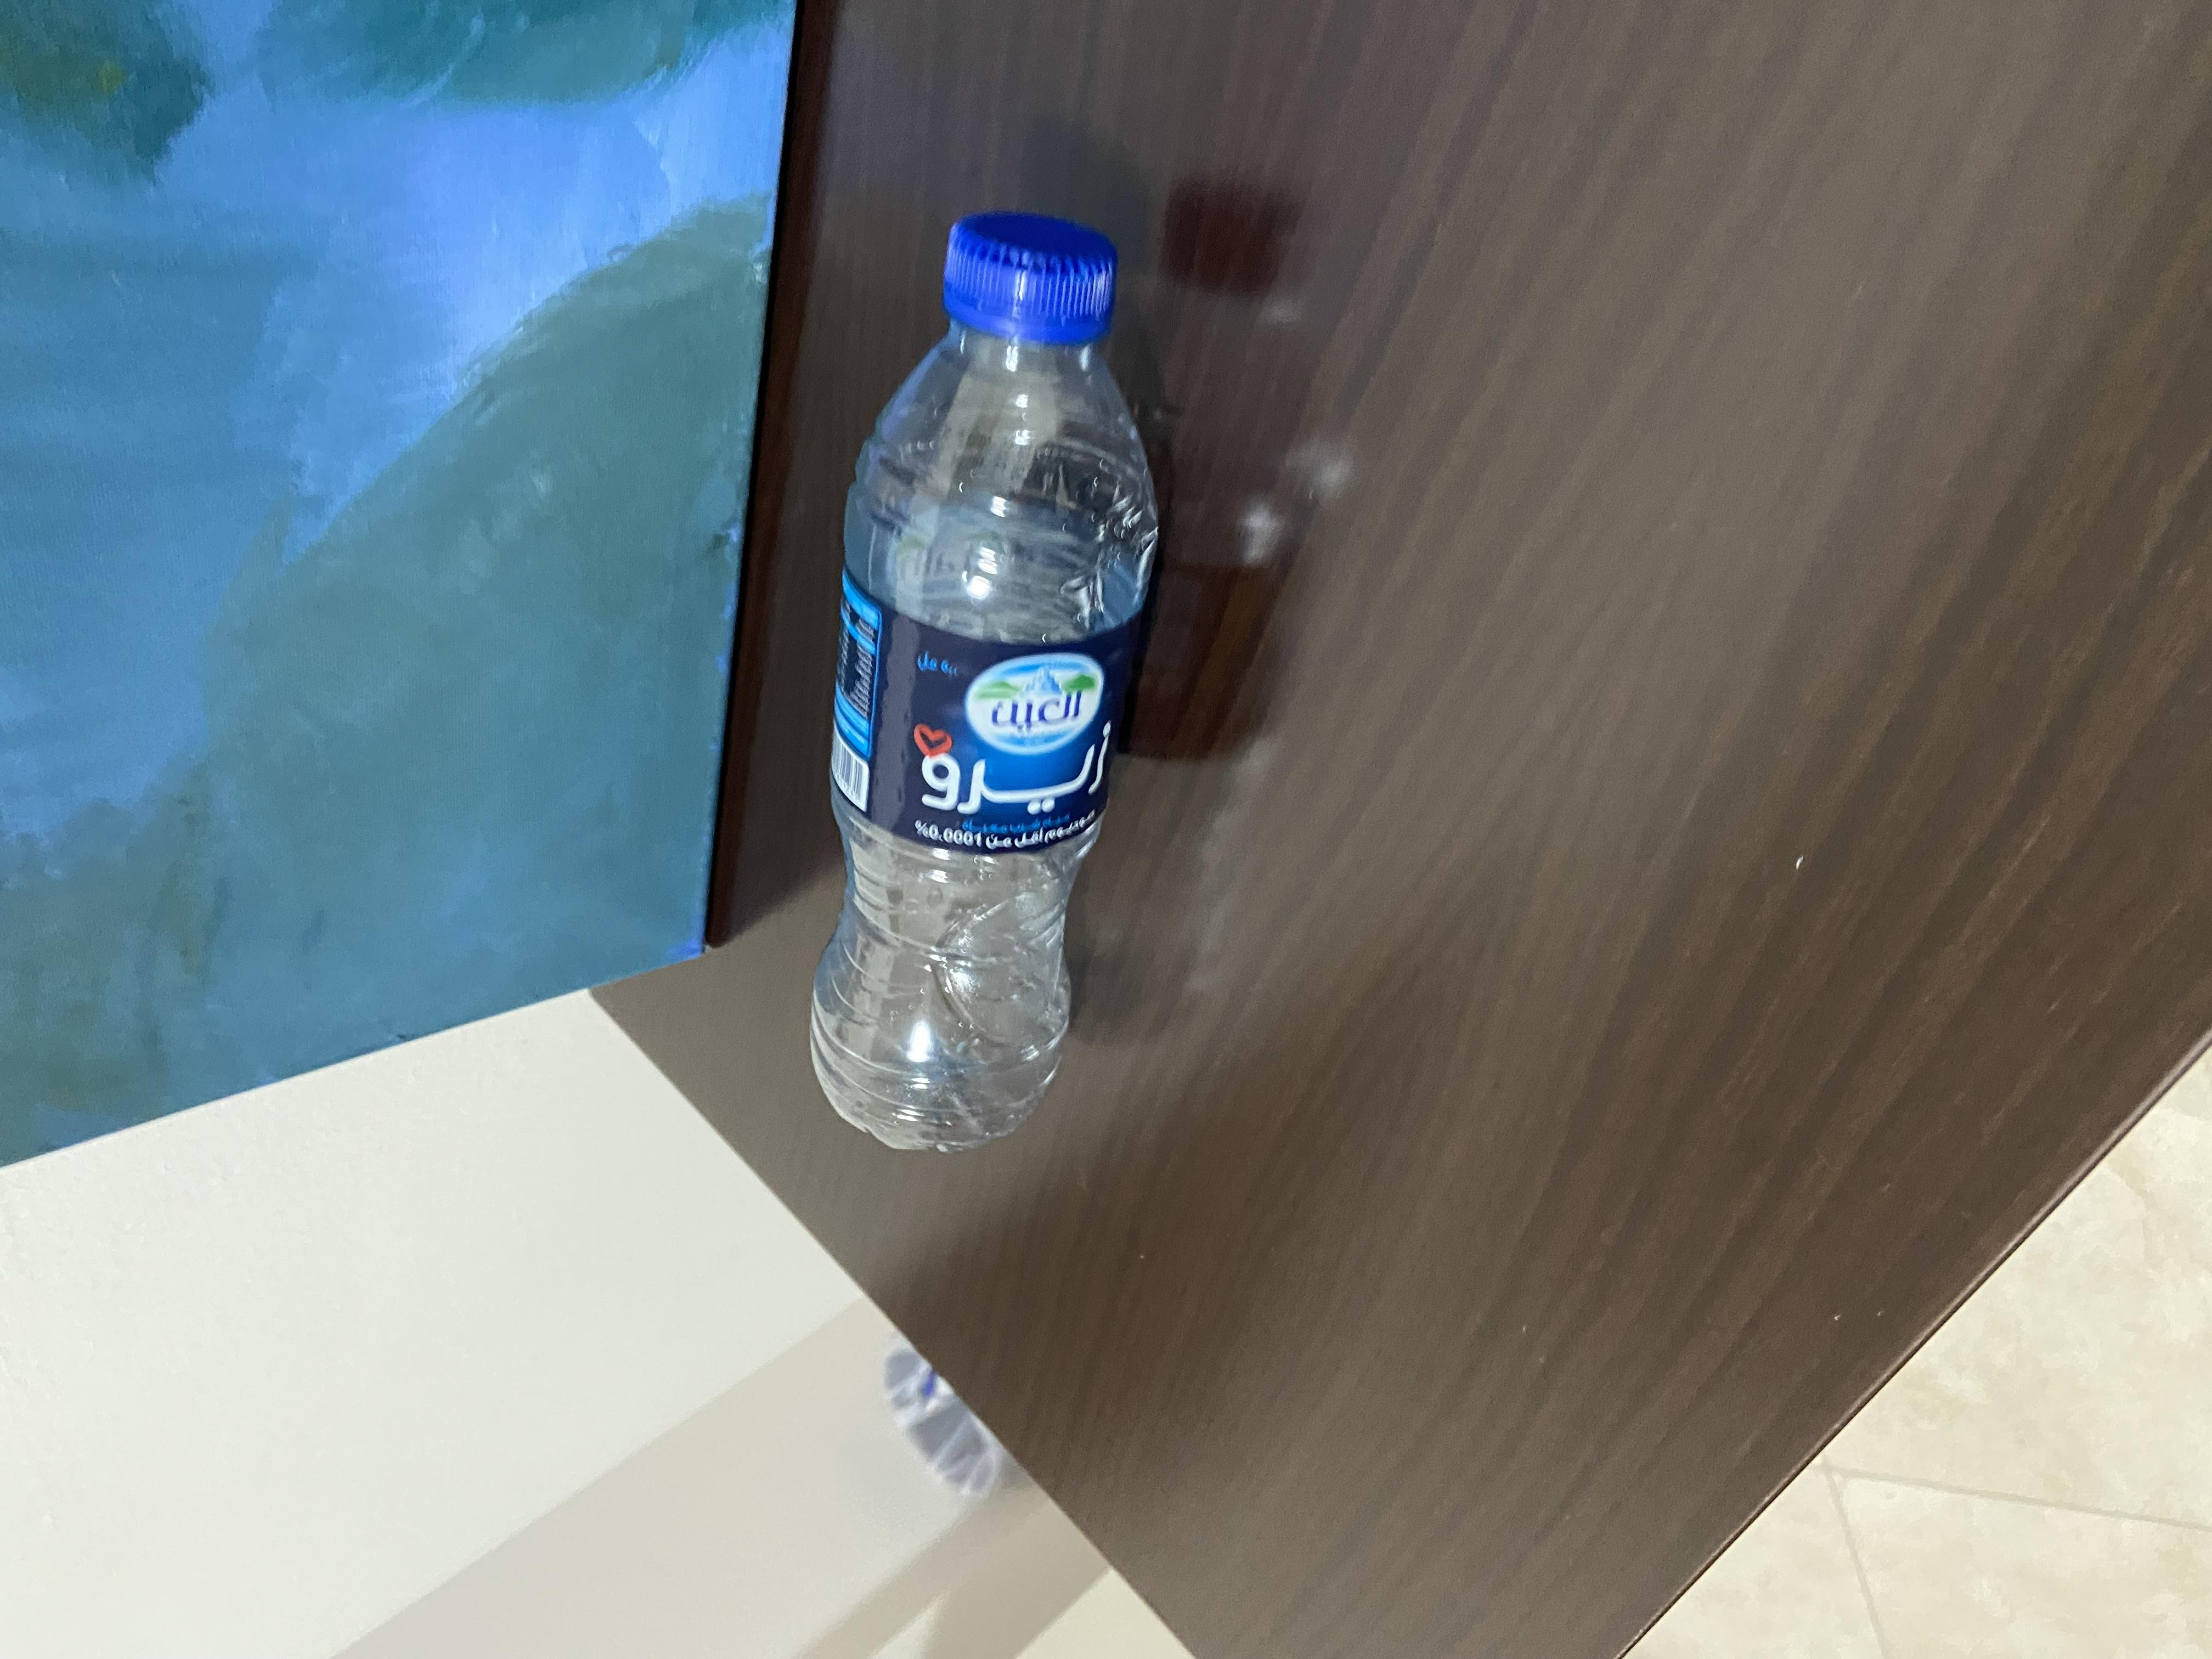bottle: (669, 592, 1946, 871)
